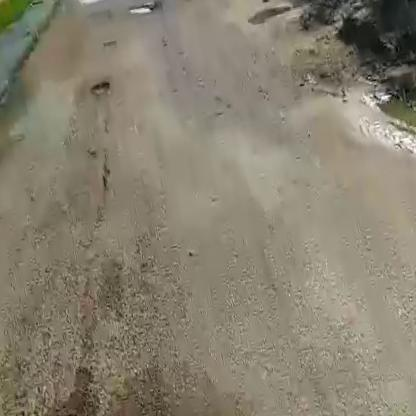pothole: (125, 1, 157, 19), (88, 78, 112, 100), (71, 0, 117, 8)
